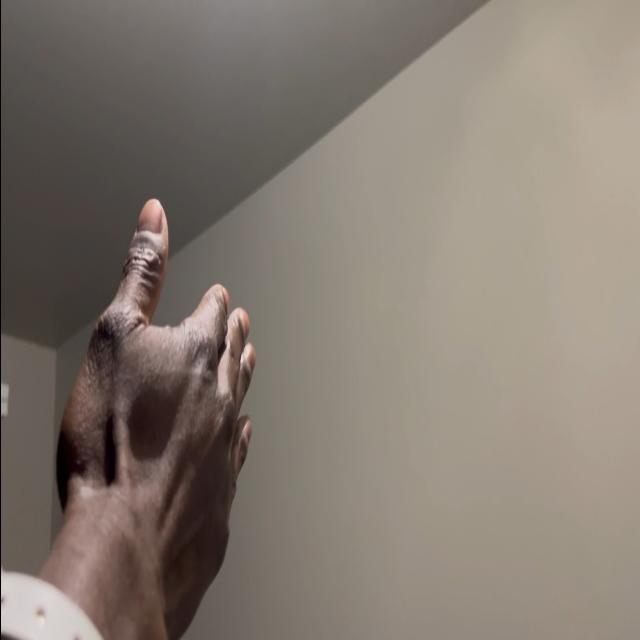Paper: (58, 195, 256, 636)
